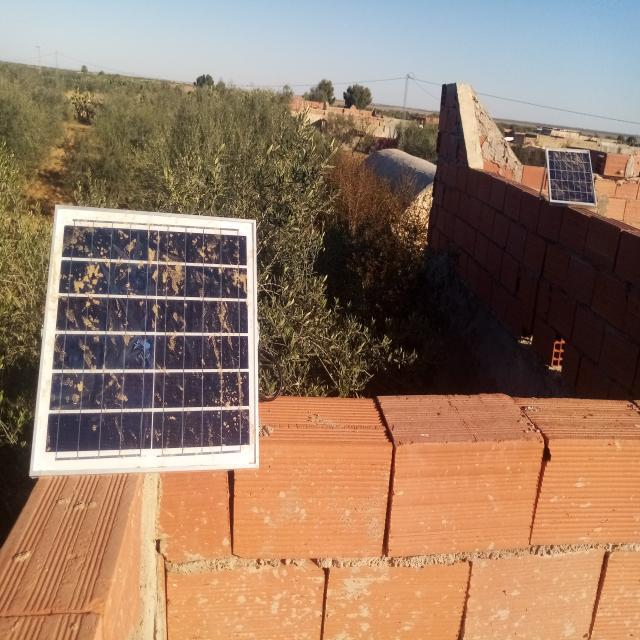faulty: (30, 204, 259, 477), (546, 147, 597, 206)
